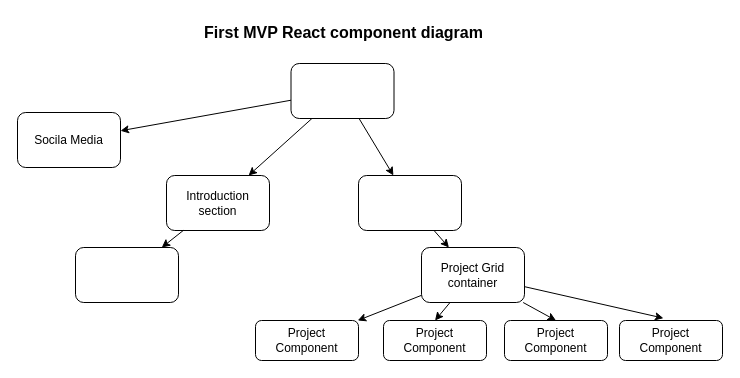
Some shapes in this 740 by 378 pixel diagram are drawn without their labels. The centre of each missing label's shape, as x and y in pixels:
"APP" belongs at (342,90).
"Projects" belongs at (410,202).
"Title" belongs at (126,274).
